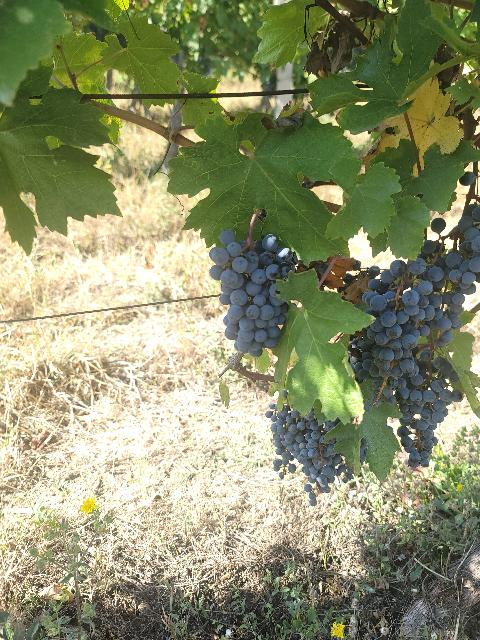grapes: (355, 258, 444, 396), (210, 230, 298, 358), (421, 202, 480, 348), (398, 356, 462, 468), (296, 410, 354, 505), (265, 402, 299, 479)
